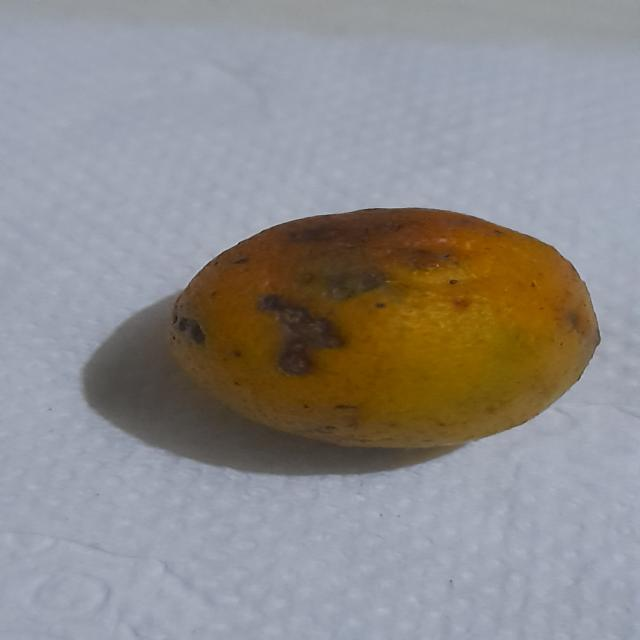black spot: (167, 206, 610, 457)
